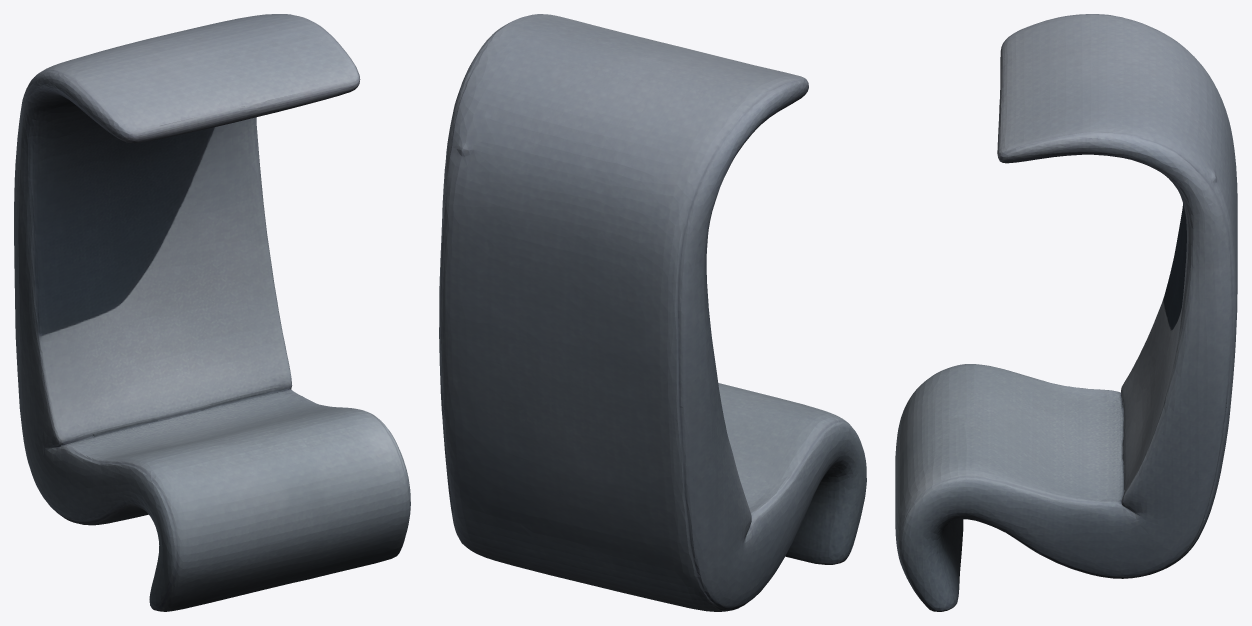
File: library_snail_chair.glb
3 renders of one model, left to right at view 1: azimuth 30°, elevation 25°; view 2: azimuth 150°, elevation 25°; view 3: azimuth 270°, elevation 25°, orthographic. The views are drawn at different scales.
Visible parts, largest first — view 1: world; view 2: world; view 3: world.
Boxes of the visible parts, <box> form: world: <box>14,14,410,611</box>; world: <box>439,14,866,611</box>; world: <box>895,14,1237,611</box>.
Size of the model in its own units: 0.5571 by 0.9991 by 0.6455.
1 material, 1 textured.
